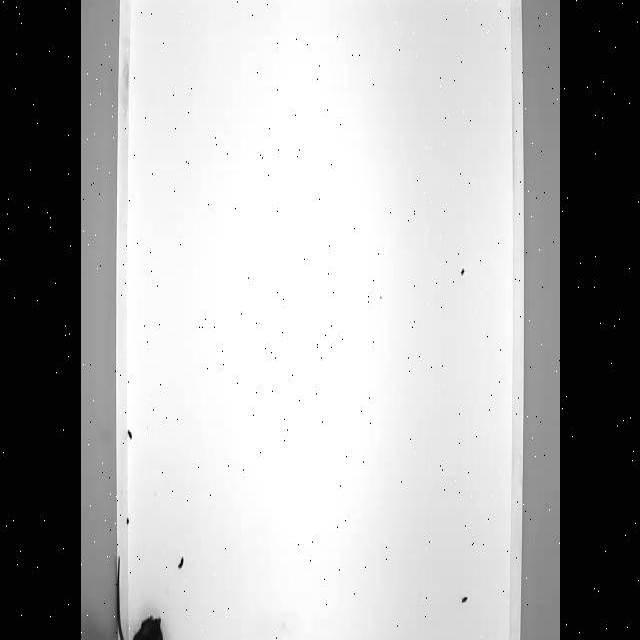rat: (111, 554, 166, 640)
